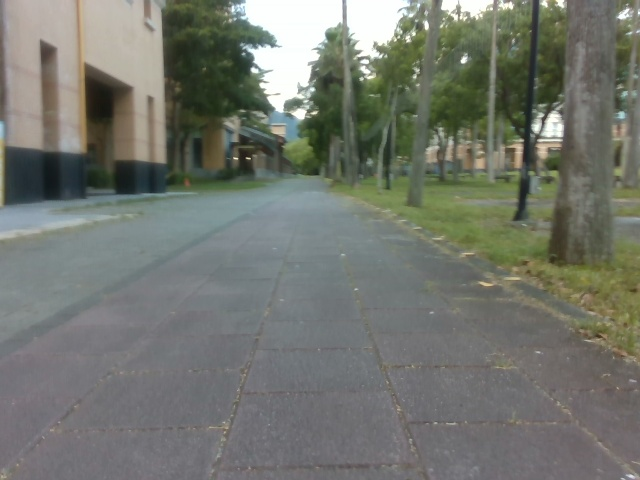grass: (163, 0, 639, 266), (320, 173, 639, 353), (97, 177, 299, 222)
road: (0, 179, 639, 479)
sidewalk: (0, 196, 119, 241)
